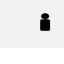human: (38, 11, 52, 32)
